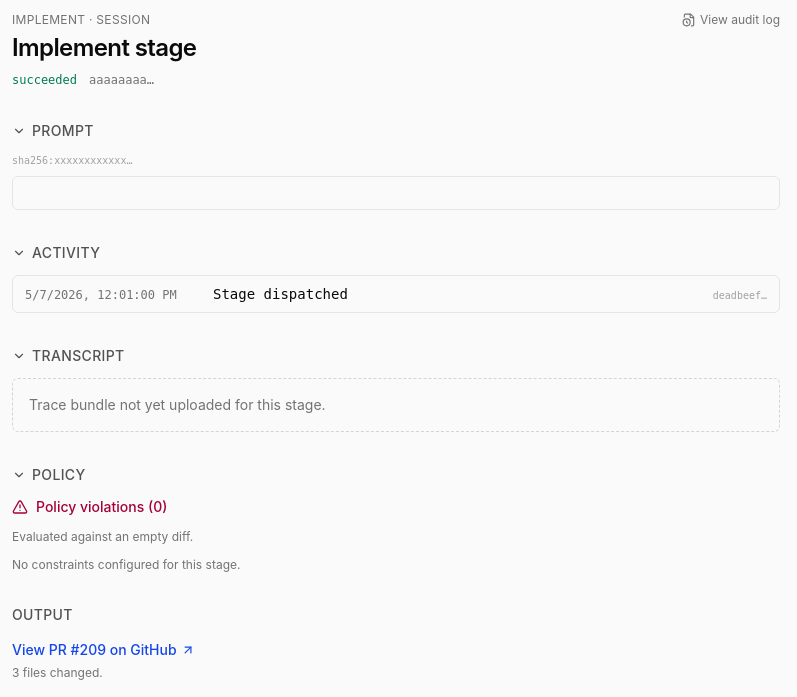
Test case: <ImplementSessionDocument> › collapses the activity section when its header button is clicked
This screenshot has width=797, height=697.
Expected: the text "Stage dispatched" is shown, 213,286 -> 348,302
Click the button "Activity" at (56, 253), box 12,243 -> 100,263
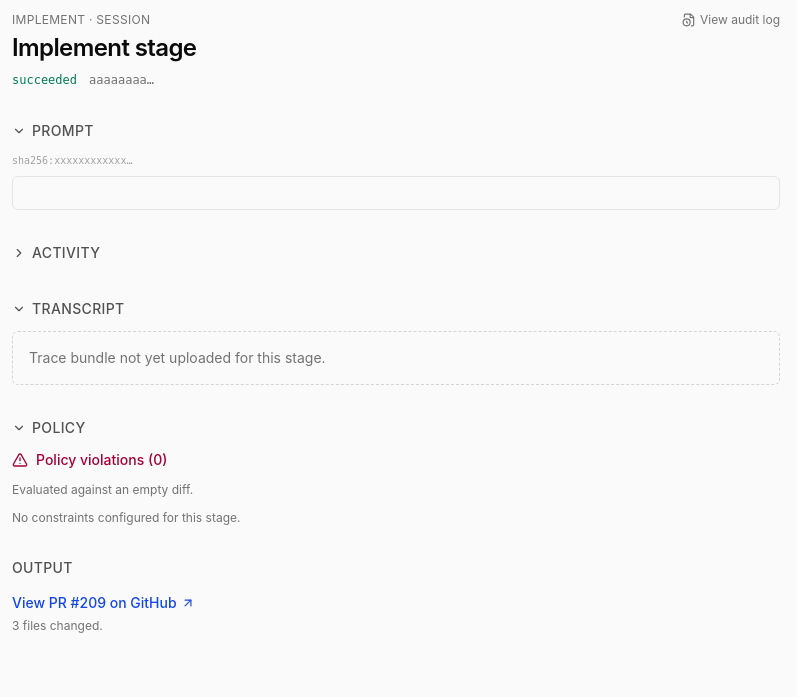
Now the button "Activity" is collapsed, box 12,243 -> 100,263
Now the text "Stage dispatched" is gone
